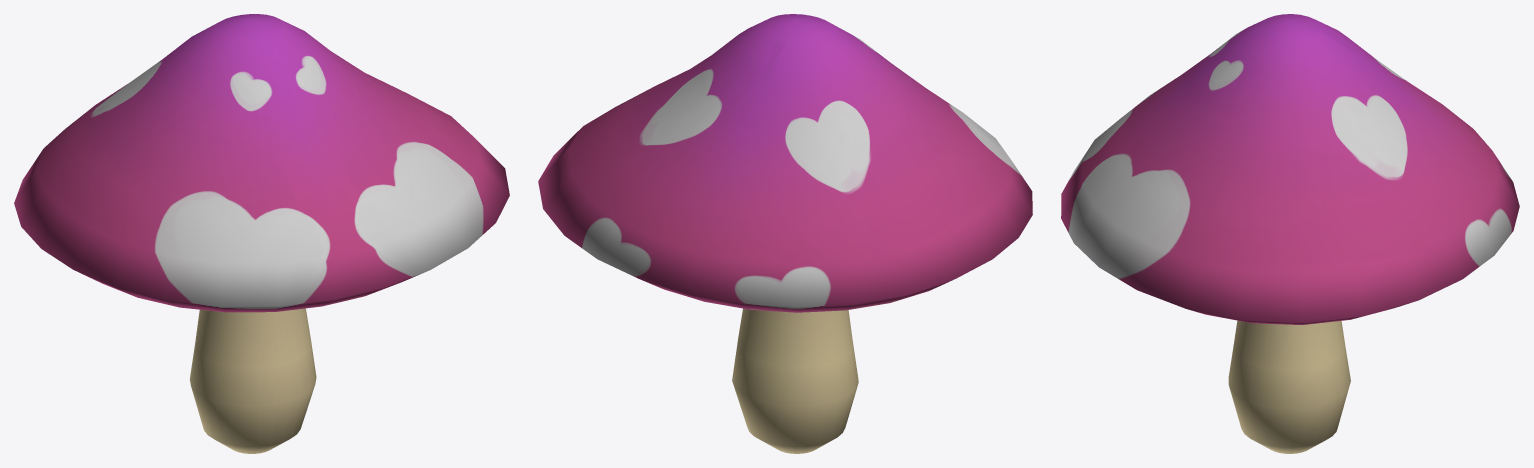
File: SHROOM 2.fbx
The picture shows the model from 3 angles, left to right: view 1: azimuth 30°, elevation 25°; view 2: azimuth 150°, elevation 25°; view 3: azimuth 270°, elevation 25°; orthographic projection.
Visible parts, largest first — view 1: Sphere007; view 2: Sphere007; view 3: Sphere007.
Boxes of the visible parts, box(x1,y1,x2,y2) form: Sphere007: box(14, 14, 509, 453); Sphere007: box(538, 14, 1032, 453); Sphere007: box(1061, 14, 1519, 453).
Size of the model in its own units: 21.85 by 20.18 by 19.88.
